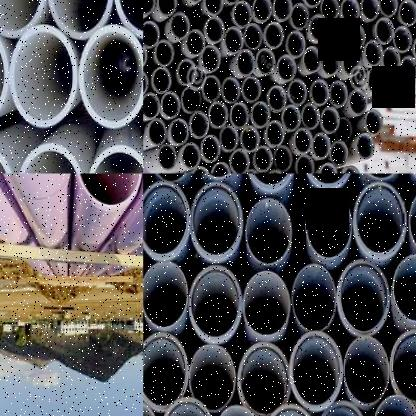pipe: (10, 25, 78, 129), (80, 24, 144, 129), (352, 181, 407, 258), (289, 332, 343, 410), (191, 182, 242, 261), (189, 264, 242, 340), (237, 342, 290, 416), (336, 260, 388, 333), (143, 181, 190, 258), (143, 331, 188, 410), (188, 345, 235, 412), (245, 198, 292, 265), (344, 335, 388, 406), (243, 269, 290, 335), (143, 262, 188, 330), (306, 192, 352, 258), (292, 264, 336, 332), (47, 0, 113, 39), (76, 173, 141, 206), (16, 143, 84, 174), (390, 329, 416, 406), (86, 144, 143, 174), (0, 0, 46, 37), (393, 254, 416, 322), (114, 0, 143, 39), (160, 397, 214, 416), (372, 395, 416, 416), (0, 23, 8, 125), (318, 400, 368, 416), (247, 174, 297, 190), (303, 174, 353, 188), (263, 404, 316, 416), (147, 118, 168, 146), (181, 86, 202, 114), (181, 142, 201, 170), (152, 66, 172, 94), (177, 58, 197, 86), (170, 12, 190, 40), (408, 185, 416, 254), (157, 144, 177, 171), (170, 118, 190, 145), (267, 86, 287, 113), (310, 79, 330, 106), (288, 79, 308, 106), (242, 76, 262, 103), (201, 45, 221, 72), (286, 31, 306, 58), (205, 16, 225, 43), (290, 3, 310, 30), (254, 145, 273, 173), (312, 132, 331, 160), (321, 106, 340, 134), (282, 104, 301, 132), (349, 88, 368, 116), (277, 54, 296, 82), (224, 26, 243, 54), (327, 20, 346, 48), (356, 134, 376, 160), (293, 128, 313, 154), (240, 126, 260, 152), (189, 112, 209, 138), (161, 92, 181, 118), (302, 46, 322, 72), (154, 40, 174, 66), (346, 24, 366, 50), (215, 405, 262, 416), (266, 121, 285, 148), (209, 101, 228, 128), (236, 49, 255, 76), (244, 23, 263, 50), (310, 14, 328, 42), (230, 148, 249, 174), (274, 146, 293, 172), (201, 136, 220, 162), (364, 110, 383, 136), (230, 102, 249, 128), (202, 76, 221, 102), (367, 68, 386, 94), (342, 50, 361, 76), (256, 48, 275, 74), (364, 40, 383, 66), (186, 30, 205, 56), (265, 22, 284, 48), (375, 18, 394, 44), (233, 2, 252, 28), (220, 125, 238, 152), (143, 92, 160, 120), (330, 140, 348, 166), (302, 104, 320, 130), (252, 102, 270, 128), (330, 81, 348, 107), (222, 77, 240, 103), (382, 47, 400, 73), (394, 26, 412, 52), (340, 0, 360, 23), (334, 117, 352, 142), (322, 50, 340, 75), (399, 56, 416, 82), (143, 21, 160, 47), (399, 0, 416, 25), (272, 0, 292, 21), (253, 0, 272, 22), (320, 0, 338, 22), (358, 173, 402, 182), (360, 0, 379, 20), (296, 154, 314, 173), (156, 0, 177, 16), (152, 173, 191, 181), (380, 0, 398, 17), (205, 0, 224, 15), (201, 173, 236, 180), (318, 162, 338, 174), (212, 161, 231, 173), (143, 0, 156, 15), (342, 165, 360, 174), (191, 166, 210, 174), (303, 0, 322, 7), (144, 70, 148, 96), (413, 33, 416, 63), (144, 42, 147, 69), (222, 0, 240, 4)
